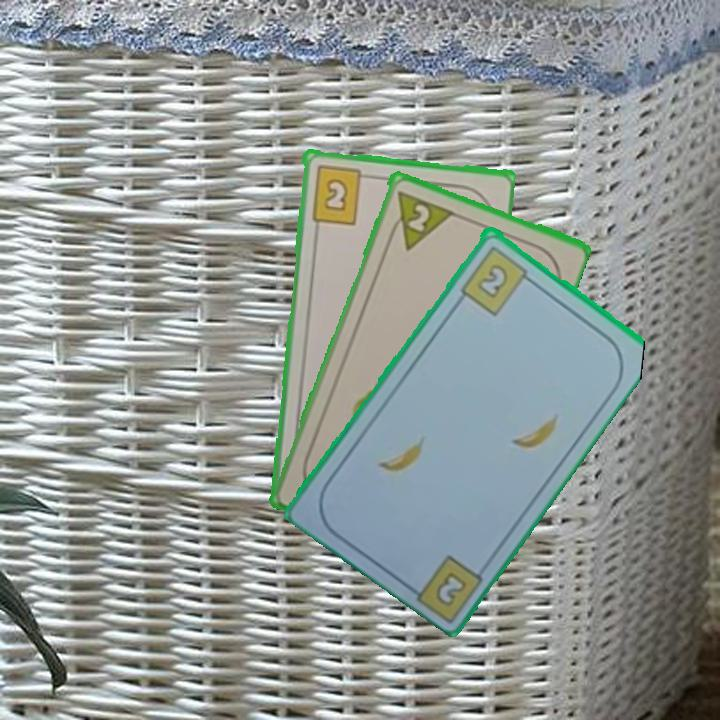2b: (457, 241, 537, 318), (307, 161, 373, 226), (431, 567, 470, 609)
2p: (383, 186, 455, 253)
